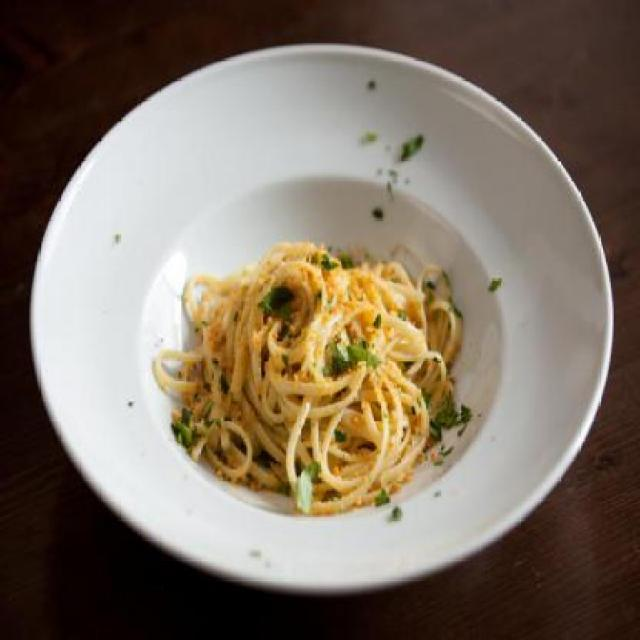Oil pasta: (146, 223, 549, 503)
